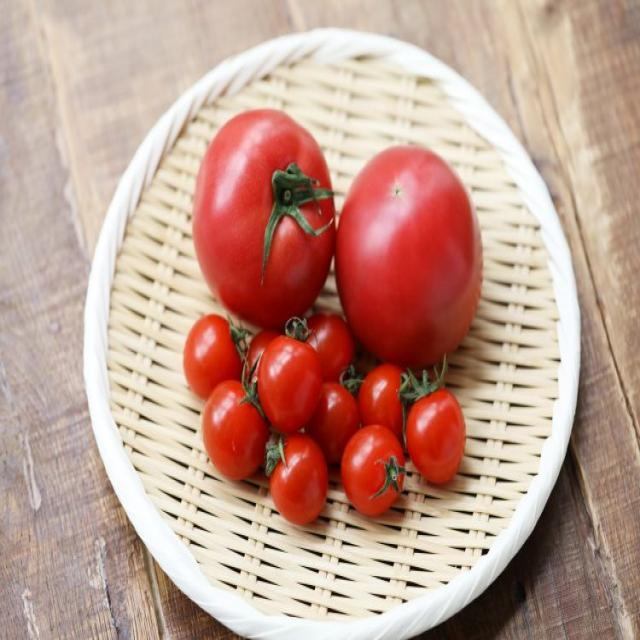Tomato: (334, 139, 484, 369), (188, 105, 336, 322), (256, 330, 325, 433), (200, 378, 266, 480), (403, 386, 468, 488), (180, 313, 244, 415), (339, 422, 406, 519), (356, 357, 423, 449), (265, 431, 330, 523)
